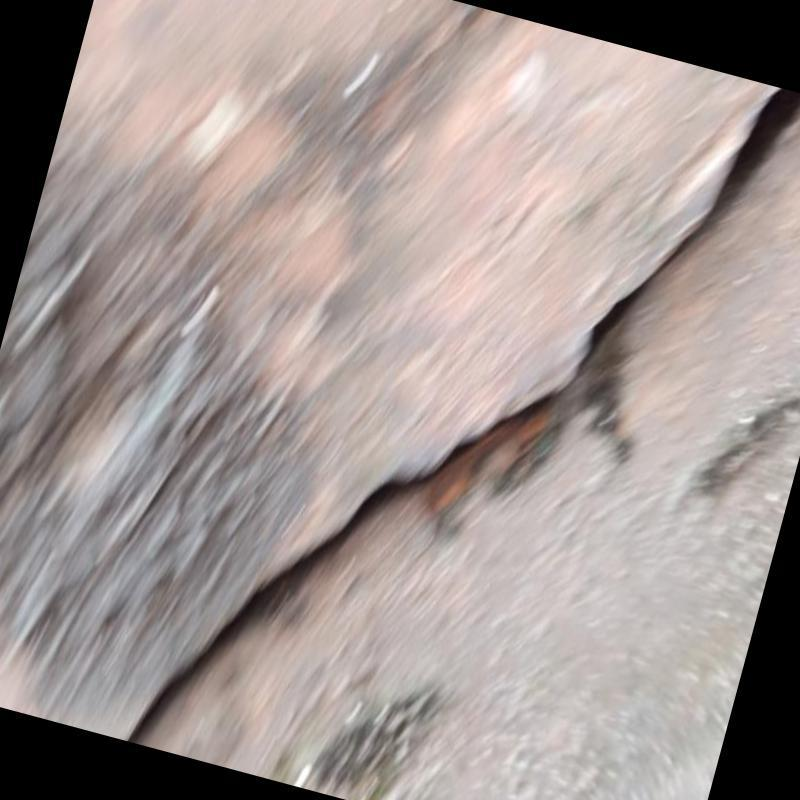pothole: (128, 88, 800, 742)
